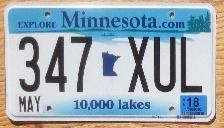3: (18, 35, 42, 93)
4: (44, 35, 68, 94)
7: (70, 34, 92, 93)
L: (180, 36, 205, 94)
U: (153, 36, 178, 93)
X: (126, 35, 150, 95)
